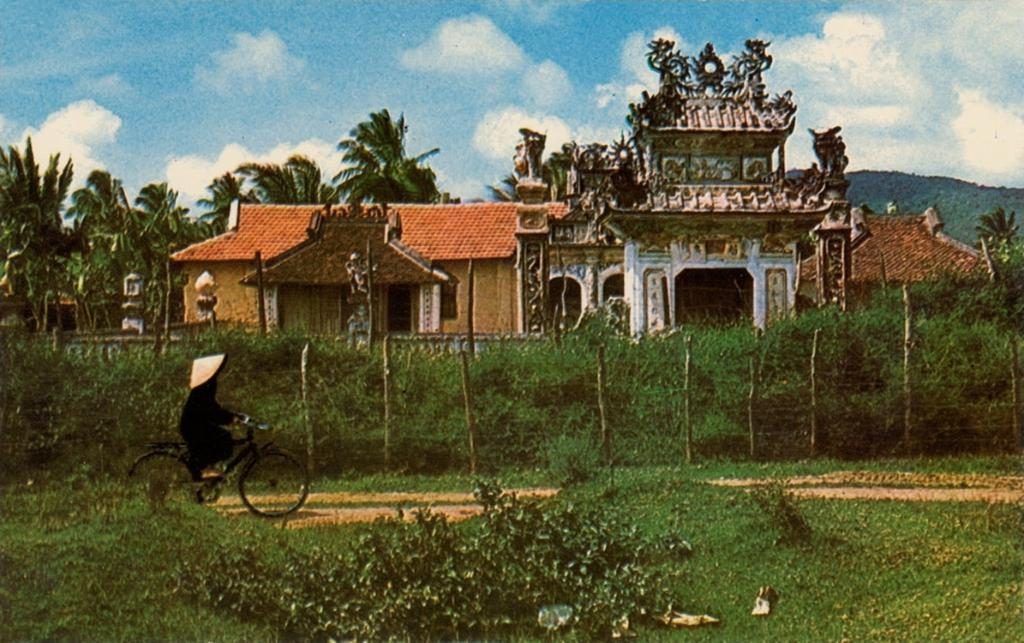Tree: (0, 136, 339, 330), (310, 97, 431, 205), (478, 125, 640, 204), (970, 207, 1023, 250)
